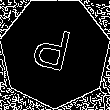P_S: (32, 23, 78, 81)
